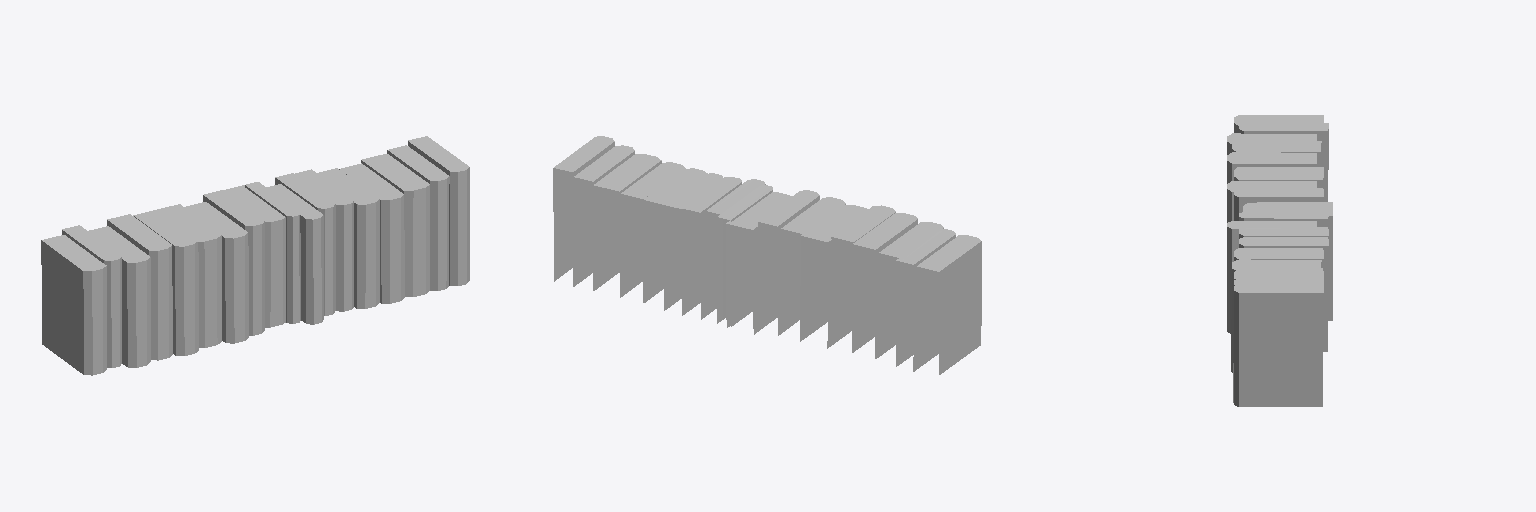
File: BookGroup_Medium_3.obj
3 views of the same model, side by side, from view 1: azimuth 30°, elevation 25°; view 2: azimuth 150°, elevation 25°; view 3: azimuth 270°, elevation 25° (orthographic).
Parts seen in each view (by area): view 1: BookGroup_Medium_3_Cube.135; view 2: BookGroup_Medium_3_Cube.135; view 3: BookGroup_Medium_3_Cube.135.
Boxes of the visible parts, x1=… form: BookGroup_Medium_3_Cube.135: x1=41, y1=136, x2=469, y2=375; BookGroup_Medium_3_Cube.135: x1=553, y1=136, x2=981, y2=374; BookGroup_Medium_3_Cube.135: x1=1227, y1=115, x2=1332, y2=406.
Bounding box in the file's own units: 1.04 × 0.2949 × 0.2475.